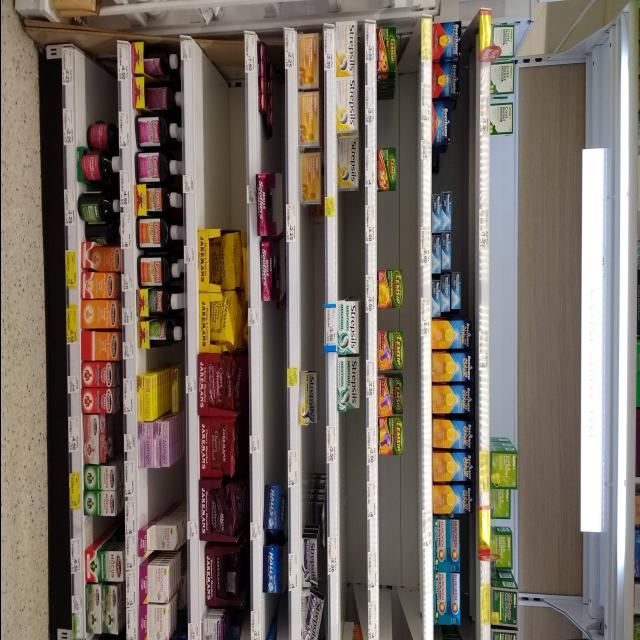empty_space: (490, 141, 510, 439), (204, 77, 244, 225), (263, 306, 285, 474), (342, 417, 361, 595), (380, 461, 404, 587), (303, 216, 321, 368), (79, 60, 113, 121), (340, 198, 360, 300), (377, 196, 405, 261), (141, 473, 181, 512), (302, 428, 326, 483), (378, 99, 398, 148), (432, 152, 452, 194), (138, 344, 170, 366), (379, 307, 401, 331)
